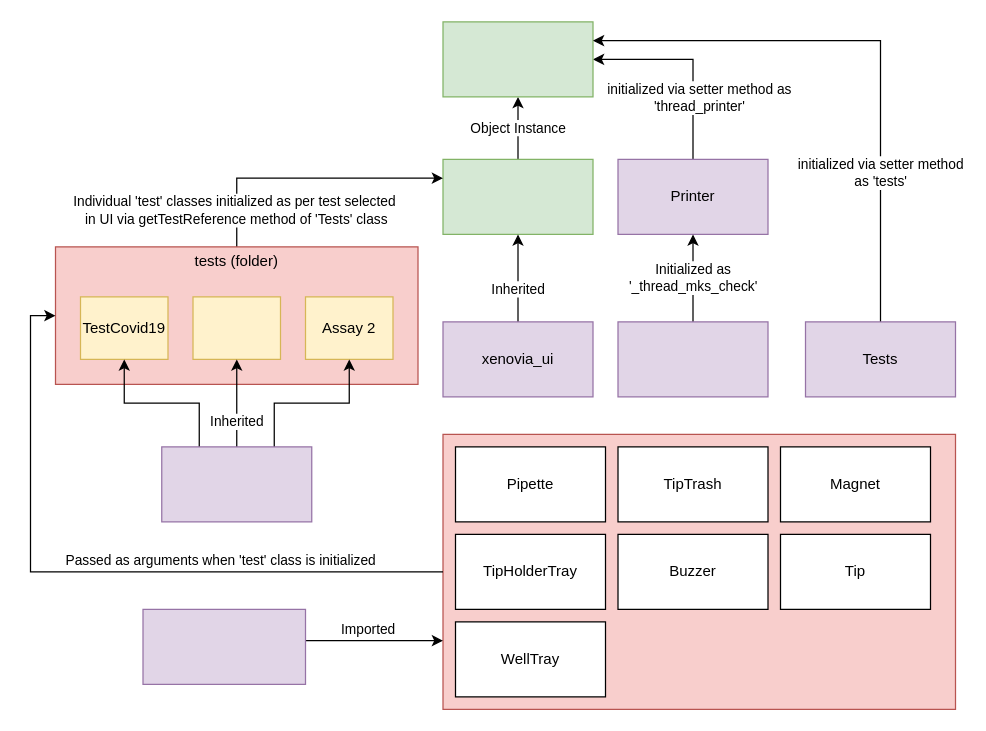
Image size: 986x731. Some labels were removed from this diagram. The shapes that lost their labels are listed below. From the top down, each one's centre as x and y in pixels, then its label:
At point (517, 59): "main_window".
At point (517, 196): "MainUI".
At point (236, 327): "Assay 1".
At point (692, 359): "MKSCheck".
At point (236, 484): "TestBase".
At point (224, 646): "MechanicalParameters".
